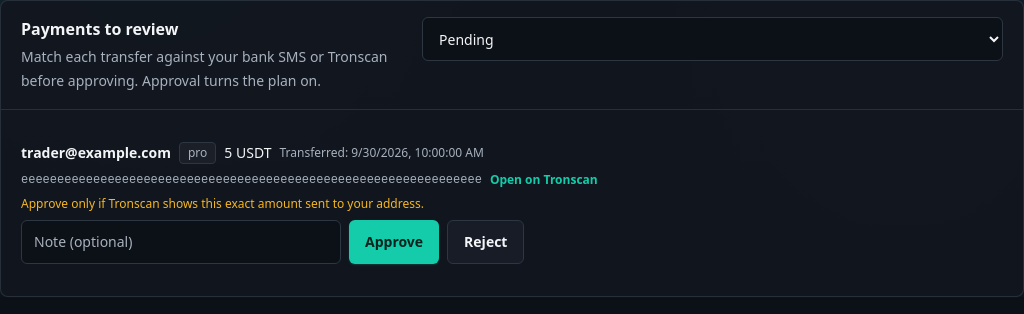
Scenario: AdminPaymentsPanel › reloads the list and shows the error when an action fails
The width and height of the screenshot is (1024, 314).
Click the button "Approve": x=394, y=242 [349,220,439,264]
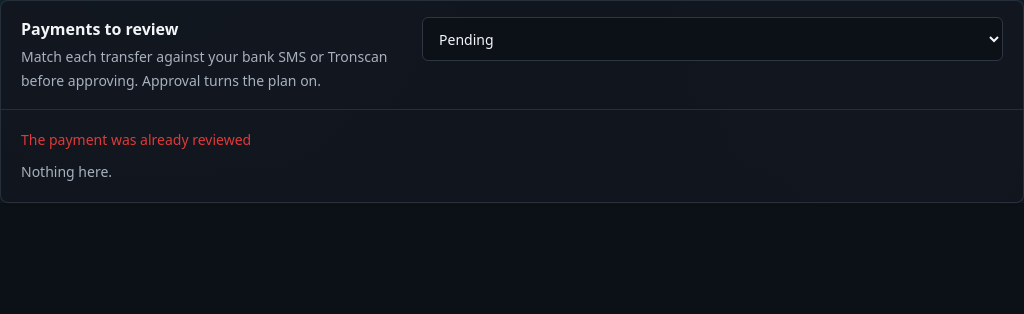
Expected: the text "The payment was already reviewed" is shown, [21,130,251,149]
